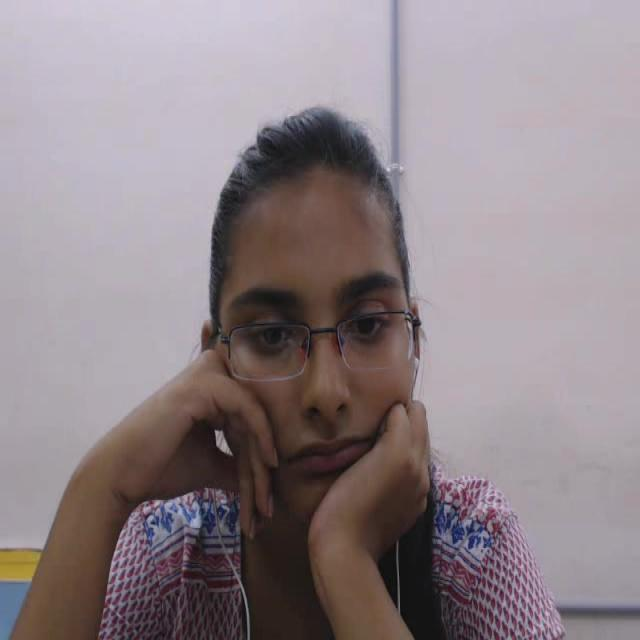Bored: (194, 78, 431, 549)
